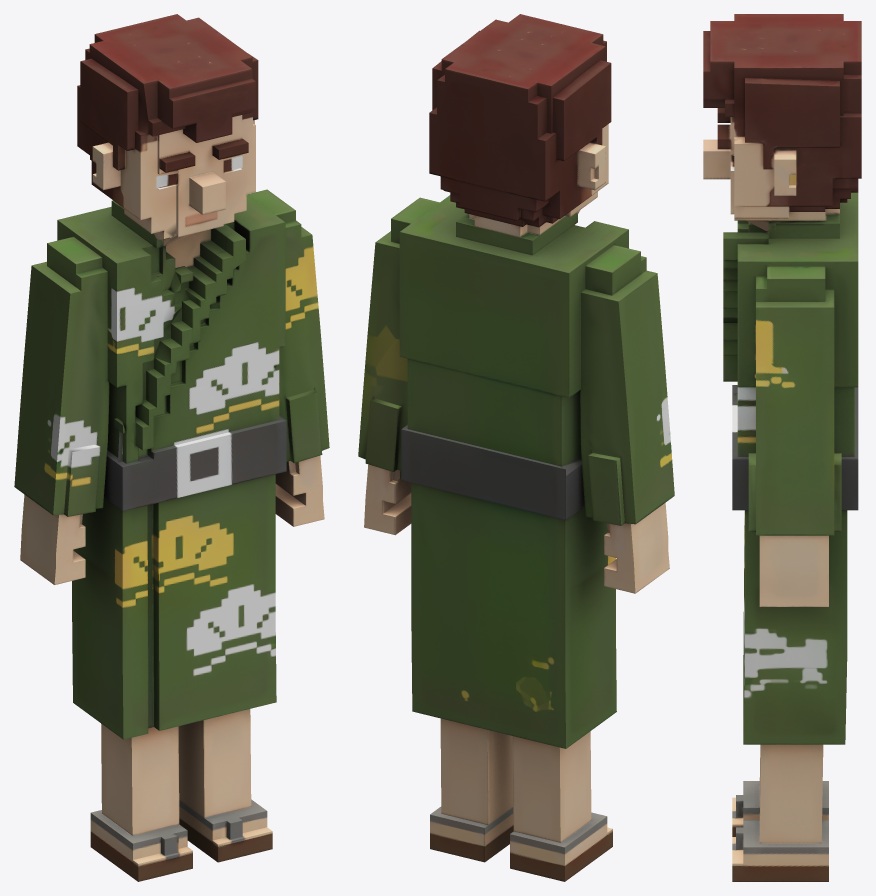
File: hombre1.obj
3 renders of one model, left to right at view 1: azimuth 30°, elevation 25°; view 2: azimuth 150°, elevation 25°; view 3: azimuth 270°, elevation 25°, orthographic.
Parts seen in each view (by area): view 1: model; view 2: model; view 3: model.
Boxes of the visible parts, x1,y1,x2,y2 form: model: (14, 14, 329, 881); model: (358, 14, 674, 881); model: (703, 14, 861, 881).
Bounding box in the file's own units: 0.6891 × 1.9 × 0.3387.
1 material, 1 textured.
